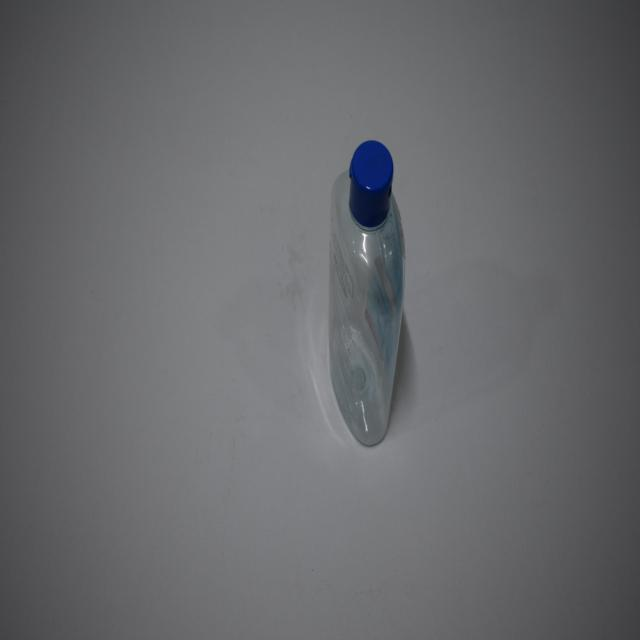bottle: (325, 138, 409, 452)
